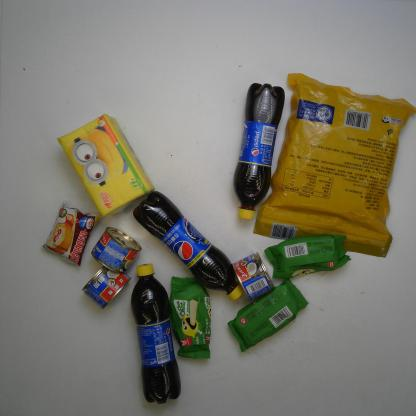Canned Food: (91, 226, 142, 274), (83, 264, 132, 308), (232, 252, 272, 302)
Dessert: (227, 278, 310, 351), (264, 234, 354, 280), (168, 276, 213, 362), (41, 201, 97, 267)
Dried Food: (252, 72, 414, 259)
Drink: (133, 190, 241, 299), (130, 262, 183, 404), (233, 82, 285, 218)
Tissue: (57, 116, 154, 218)
